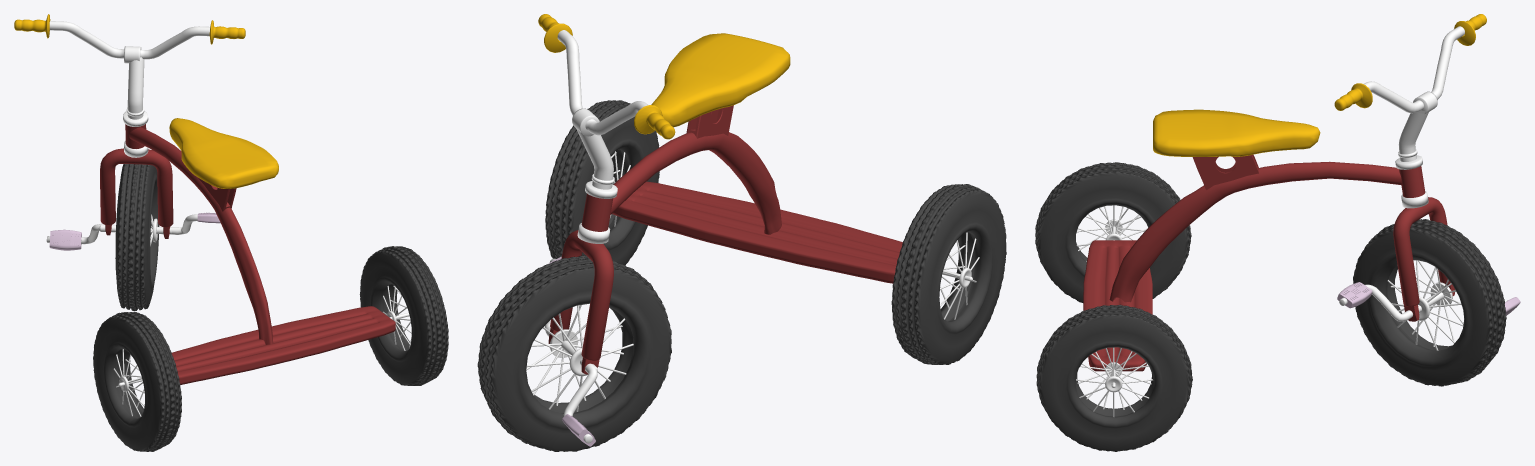
Rendered from tricycle.FBX.
3 views of the same model, side by side, from view 1: azimuth 30°, elevation 25°; view 2: azimuth 150°, elevation 25°; view 3: azimuth 270°, elevation 25° (orthographic). The views are drawn at different scales.
Parts seen in each view (by area): view 1: Wheel02, Wheel1, feetPlace, Wheel03, seat, centerFrame, wheelframe, steering, steering frame, handGrabber, Box02, underBenchPeice (+1 smaller); view 2: Wheel03, Wheel02, feetPlace, seat, Wheel1, centerFrame, wheelframe, steering, steering frame, handGrabber, underBenchPeice, Wheel_rings05 (+4 smaller); view 3: Wheel1, Wheel03, Wheel02, centerFrame, seat, feetPlace, wheelframe, steering, steering frame, underBenchPeice, handGrabber, Wheel_rings06 (+6 smaller).
Part boxes in pixels (<box>): Wheel02: <box>93,312,181,451</box>; Wheel1: <box>359,246,448,385</box>; feetPlace: <box>171,306,395,384</box>; Wheel03: <box>115,164,159,311</box>; seat: <box>169,118,278,188</box>; centerFrame: <box>129,127,273,344</box>; wheelframe: <box>100,148,173,227</box>; steering: <box>49,21,210,63</box>; steering frame: <box>123,57,148,157</box>; handGrabber: <box>14,14,245,44</box>; Box02: <box>49,229,81,250</box>; underBenchPeice: <box>198,178,236,211</box>; Wheel03: <box>477,255,671,451</box>; Wheel02: <box>891,184,1006,364</box>; feetPlace: <box>612,181,902,283</box>; seat: <box>651,33,790,127</box>; Wheel1: <box>545,100,659,265</box>; centerFrame: <box>610,132,781,234</box>; wheelframe: <box>550,230,613,360</box>; steering: <box>557,30,648,136</box>; steering frame: <box>576,128,617,243</box>; handGrabber: <box>538,14,675,139</box>; underBenchPeice: <box>686,105,733,138</box>; Wheel_rings05: <box>526,305,633,411</box>; Wheel1: <box>1036,304,1192,451</box>; Wheel03: <box>1353,219,1506,386</box>; Wheel02: <box>1035,162,1191,302</box>; centerFrame: <box>1109,161,1401,302</box>; seat: <box>1153,109,1320,156</box>; feetPlace: <box>1083,240,1152,371</box>; wheelframe: <box>1393,197,1450,306</box>; steering: <box>1363,26,1464,113</box>; steering frame: <box>1395,110,1428,208</box>; underBenchPeice: <box>1192,154,1258,189</box>; handGrabber: <box>1334,14,1486,110</box>; Wheel_rings06: <box>1387,260,1463,350</box>.
Bounding box in the file's own units: 41.2 × 38.34 × 52.08.
